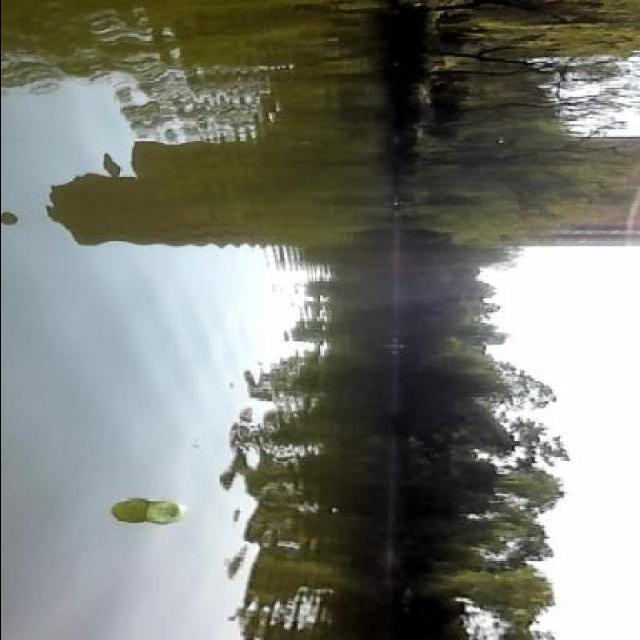Bottle: (131, 493, 190, 532)
